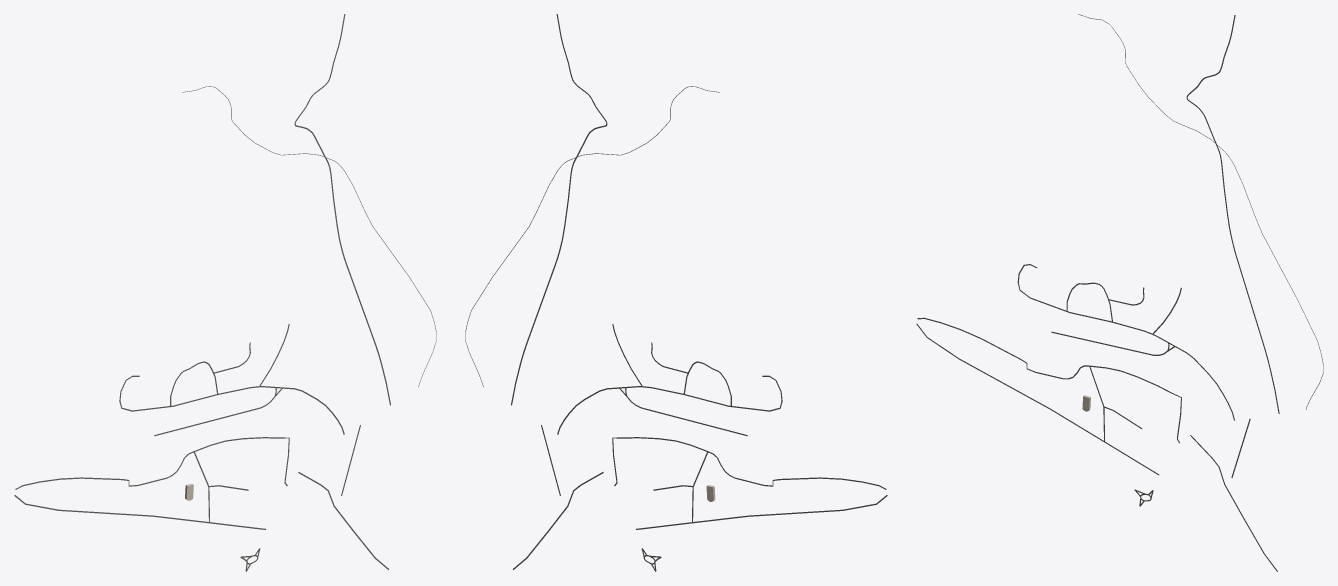
The model's file is historic-palestine-10_33_3522_3279.glb.
The picture shows the model from 3 angles, left to right: view 1: azimuth 30°, elevation 25°; view 2: azimuth 150°, elevation 25°; view 3: azimuth 330°, elevation 25°; orthographic projection. The views are drawn at different scales.
Parts seen in each view (by area): view 1: Road .010, Road, Road .005; view 2: Road .010, Road, Road .005; view 3: Road .010, Road, Road .005.
Boxes of the visible parts, box(x1,y1,x2,y2) form: Road .010: box(294, 14, 390, 405); Road: box(15, 437, 289, 489); Road .005: box(119, 375, 344, 434); Road .010: box(511, 14, 607, 405); Road: box(612, 437, 886, 489); Road .005: box(557, 375, 782, 434); Road .010: box(1186, 15, 1279, 413); Road: box(917, 317, 1181, 443); Road .005: box(1017, 264, 1234, 420).
Bounding box in the file's own units: 1128 × 1446 × 8.7.
